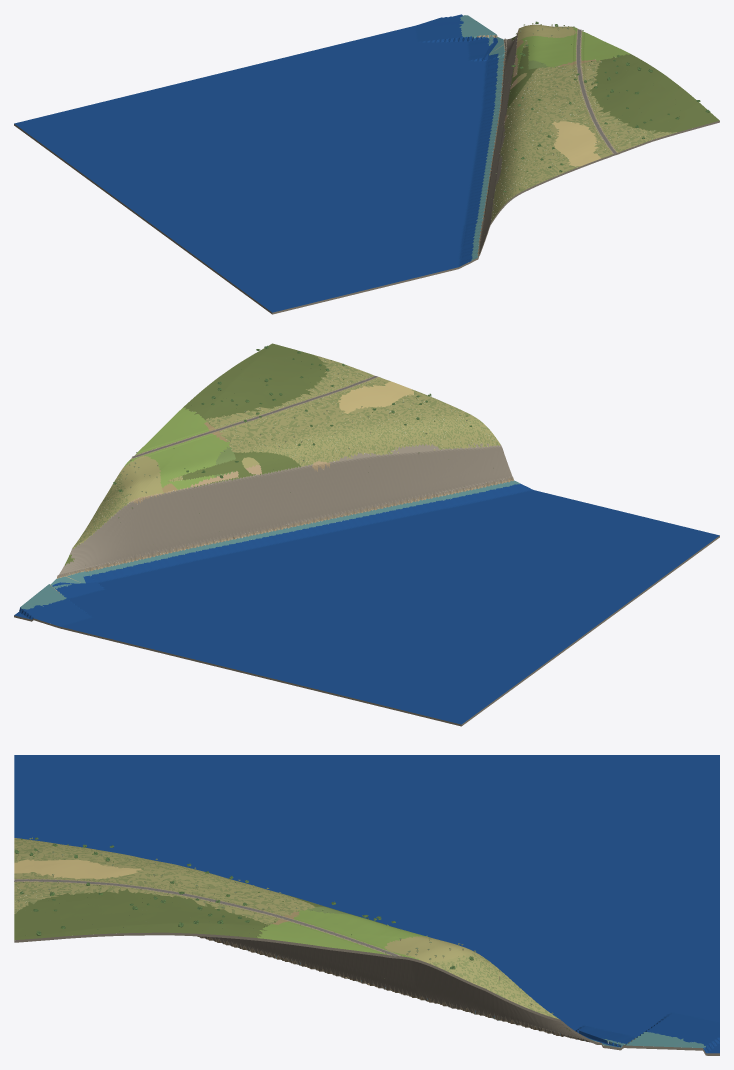
File: parca_-1_-7-yakin.glb
3 renders of one model, top to bottom at view 1: azimuth 30°, elevation 25°; view 2: azimuth 150°, elevation 25°; view 3: azimuth 270°, elevation 25°, orthographic. The views are drawn at different scales.
Visible parts, largest first — view 1: parca_-1_-7_arazi, parca_-1_-7_bitkiler; view 2: parca_-1_-7_arazi, parca_-1_-7_bitkiler; view 3: parca_-1_-7_arazi, parca_-1_-7_bitkiler, parca_-1_-7_yollar.
Boxes of the visible parts, left/top/right/bottom form: parca_-1_-7_arazi: left=14, top=14, right=719, bottom=314; parca_-1_-7_bitkiler: left=484, top=21, right=710, bottom=234; parca_-1_-7_arazi: left=14, top=343, right=719, bottom=726; parca_-1_-7_bitkiler: left=79, top=345, right=477, bottom=544; parca_-1_-7_arazi: left=14, top=755, right=719, bottom=1055; parca_-1_-7_bitkiler: left=14, top=837, right=553, bottom=1013; parca_-1_-7_yollar: left=14, top=879, right=397, bottom=956.
Size of the model in its own units: 1003 by 200 by 1000.
